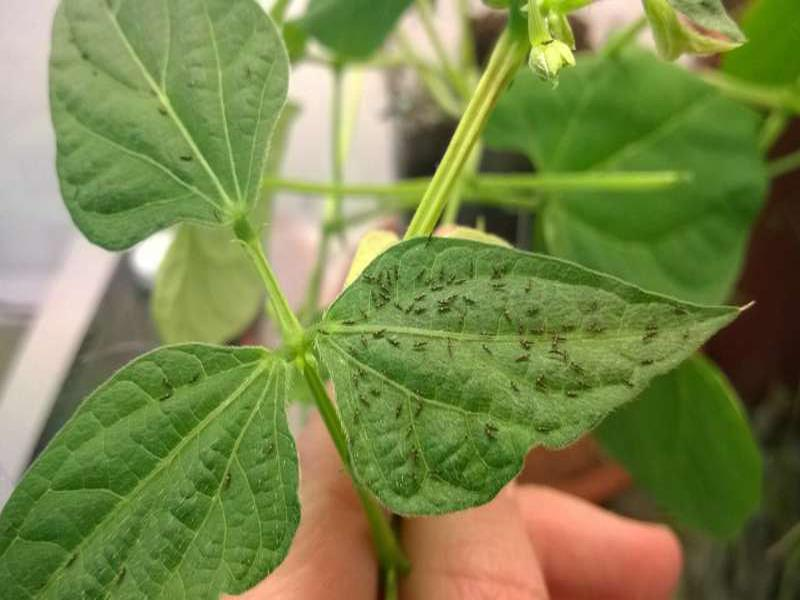Thrips: (308, 228, 716, 494)
